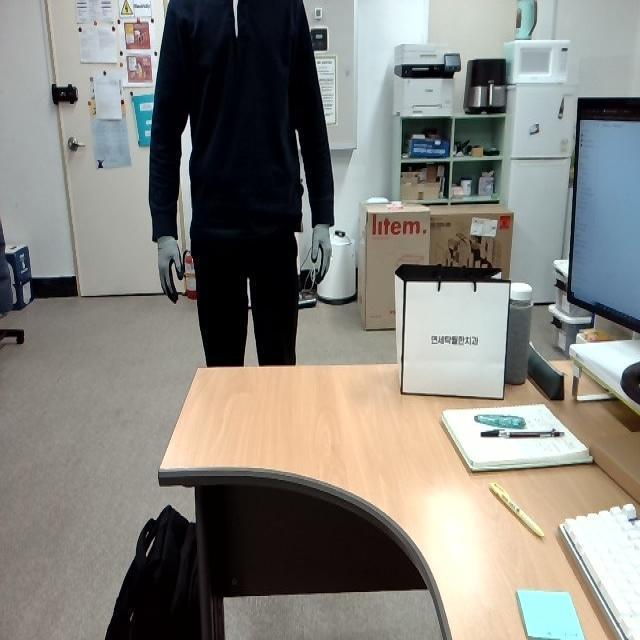gloved_hand: (154, 220, 189, 306), (300, 212, 337, 286)
